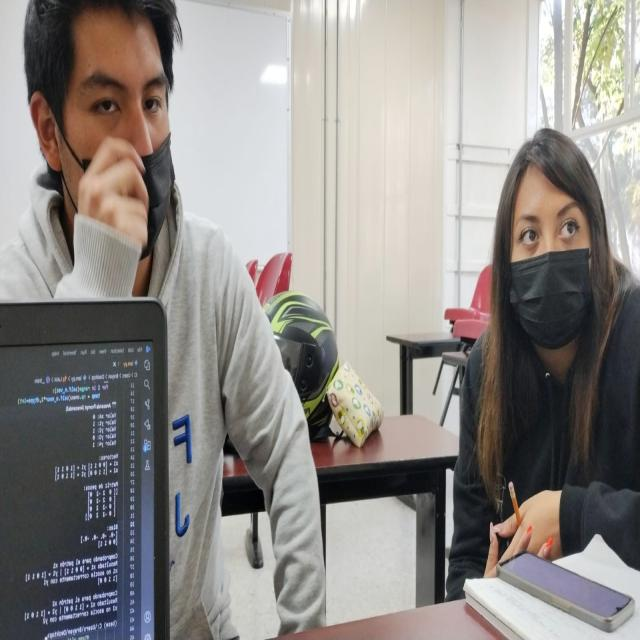adult: (9, 0, 323, 640), (451, 124, 640, 599)
